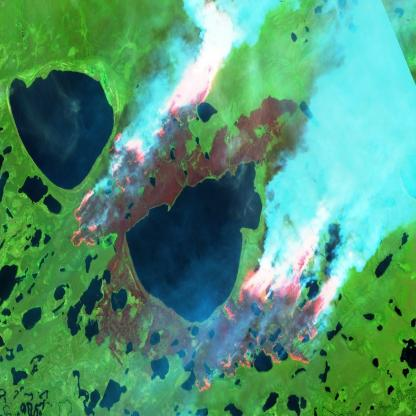fire: (69, 0, 355, 396)
